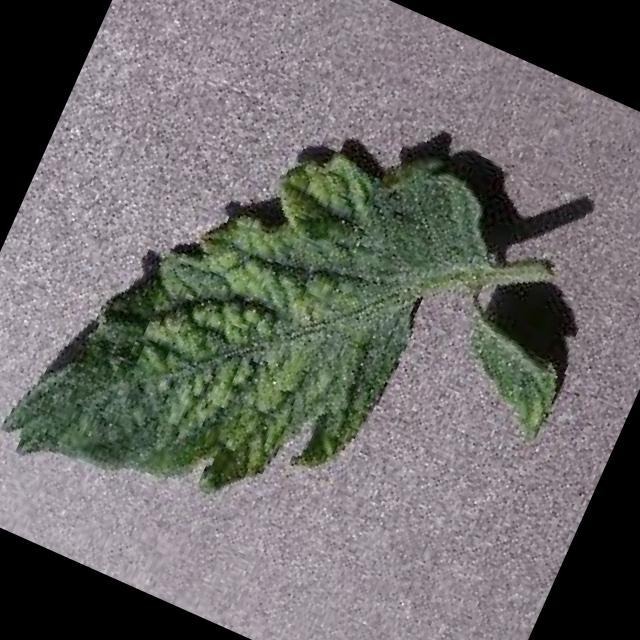Tomato mosaic virus leaf: (0, 38, 625, 640)
